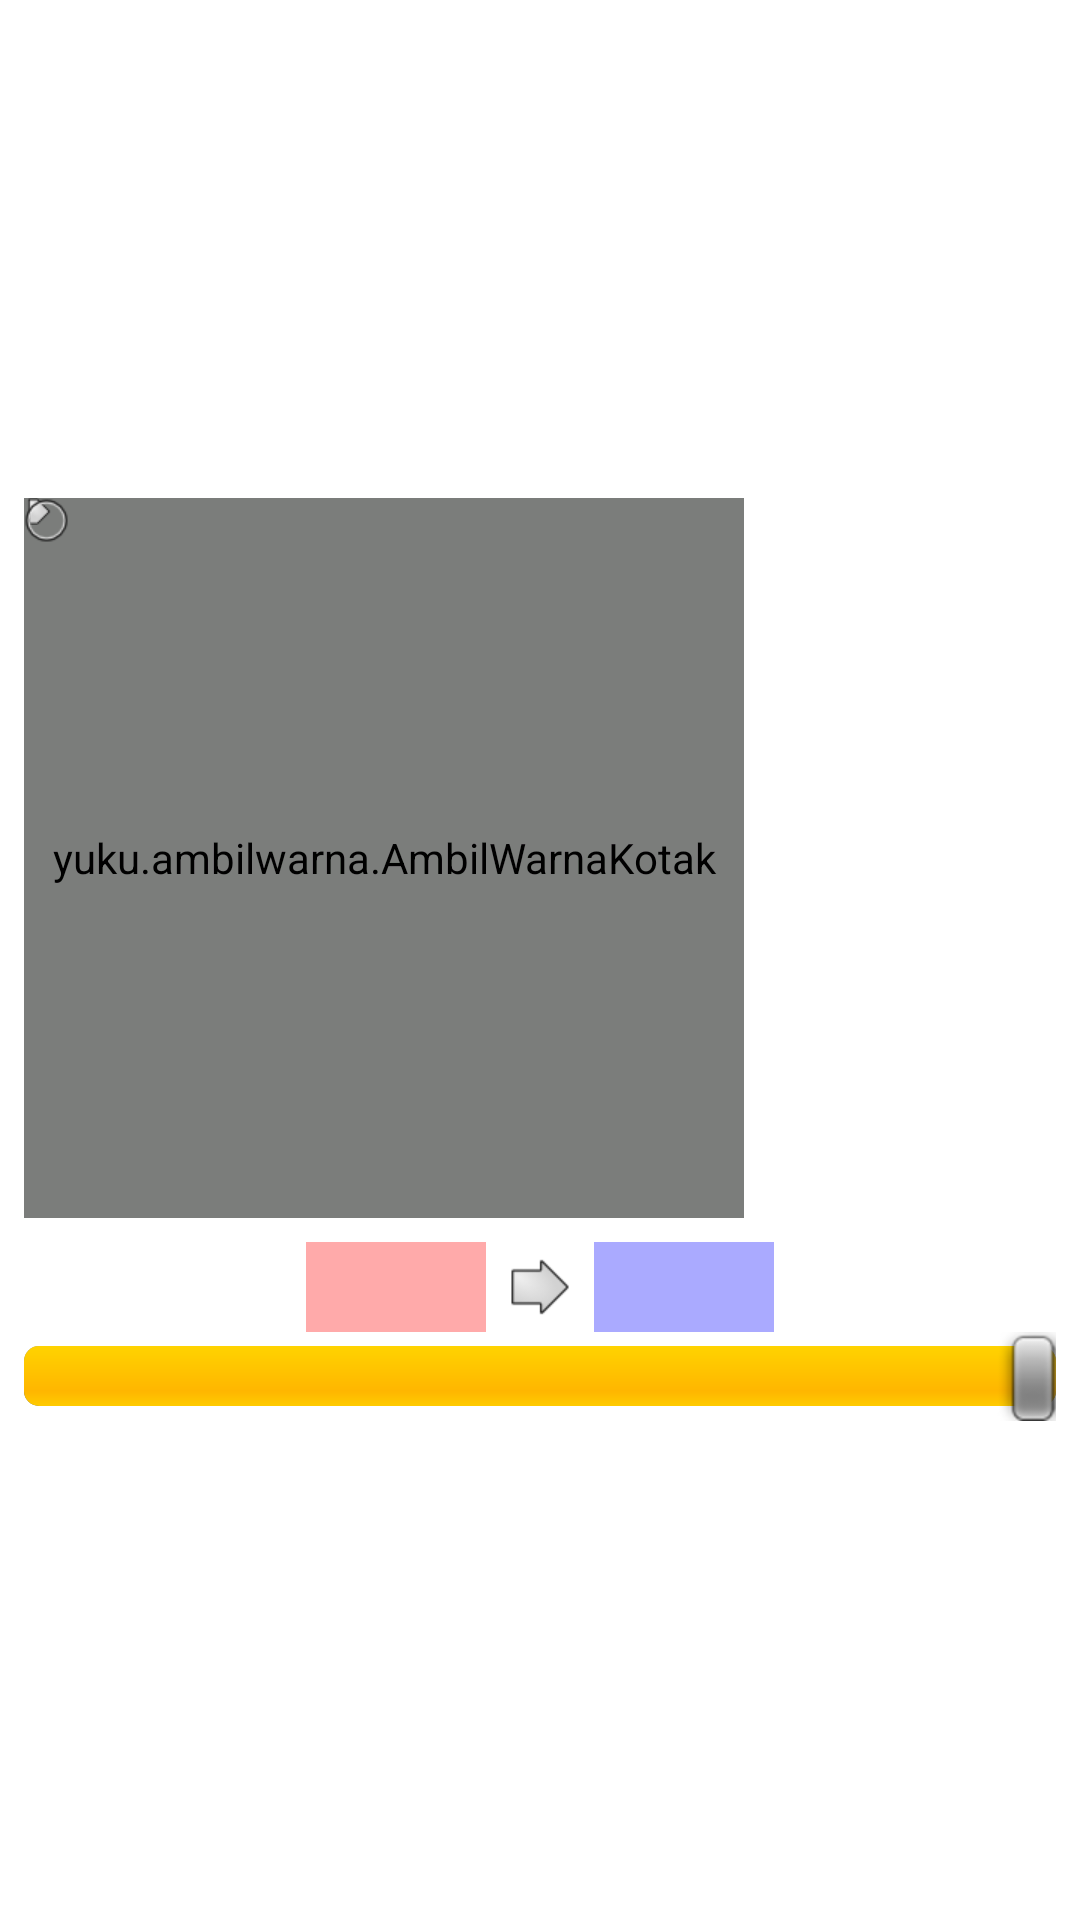

Locate icon controls on the screen. Image size 1080×1920, boxes as (x1, y1, x2, y2).
ambilwarna arrow right: (511, 1260, 569, 1315)
